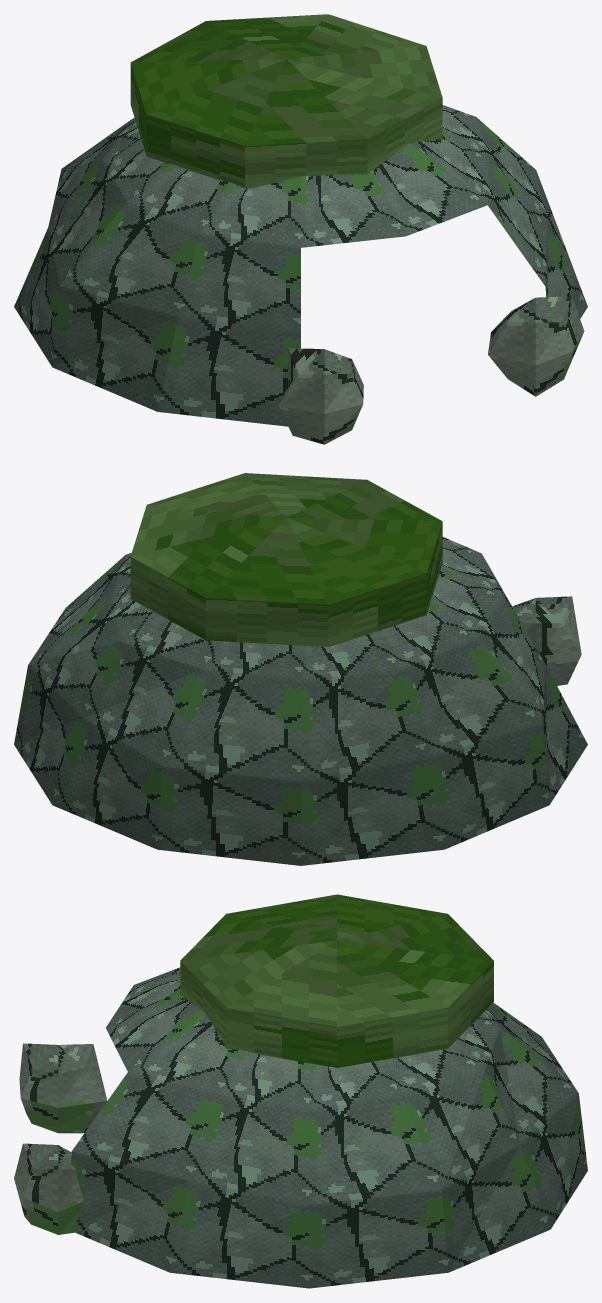
File: cave_mound.glb
3 views of the same model, one above another, from view 1: azimuth 30°, elevation 25°; view 2: azimuth 150°, elevation 25°; view 3: azimuth 270°, elevation 25° (orthographic). The views are drawn at different scales.
Parts seen in each view (by area): view 1: cave_mound; view 2: cave_mound; view 3: cave_mound.
Part boxes in pixels (box(x1,y1,x2,y2)): cave_mound: box(14, 14, 587, 444); cave_mound: box(14, 473, 587, 865); cave_mound: box(14, 894, 587, 1288).
Bounding box in the file's own units: 8 × 3.85 × 8.24.
Materials: 2 (2 with a texture image).
